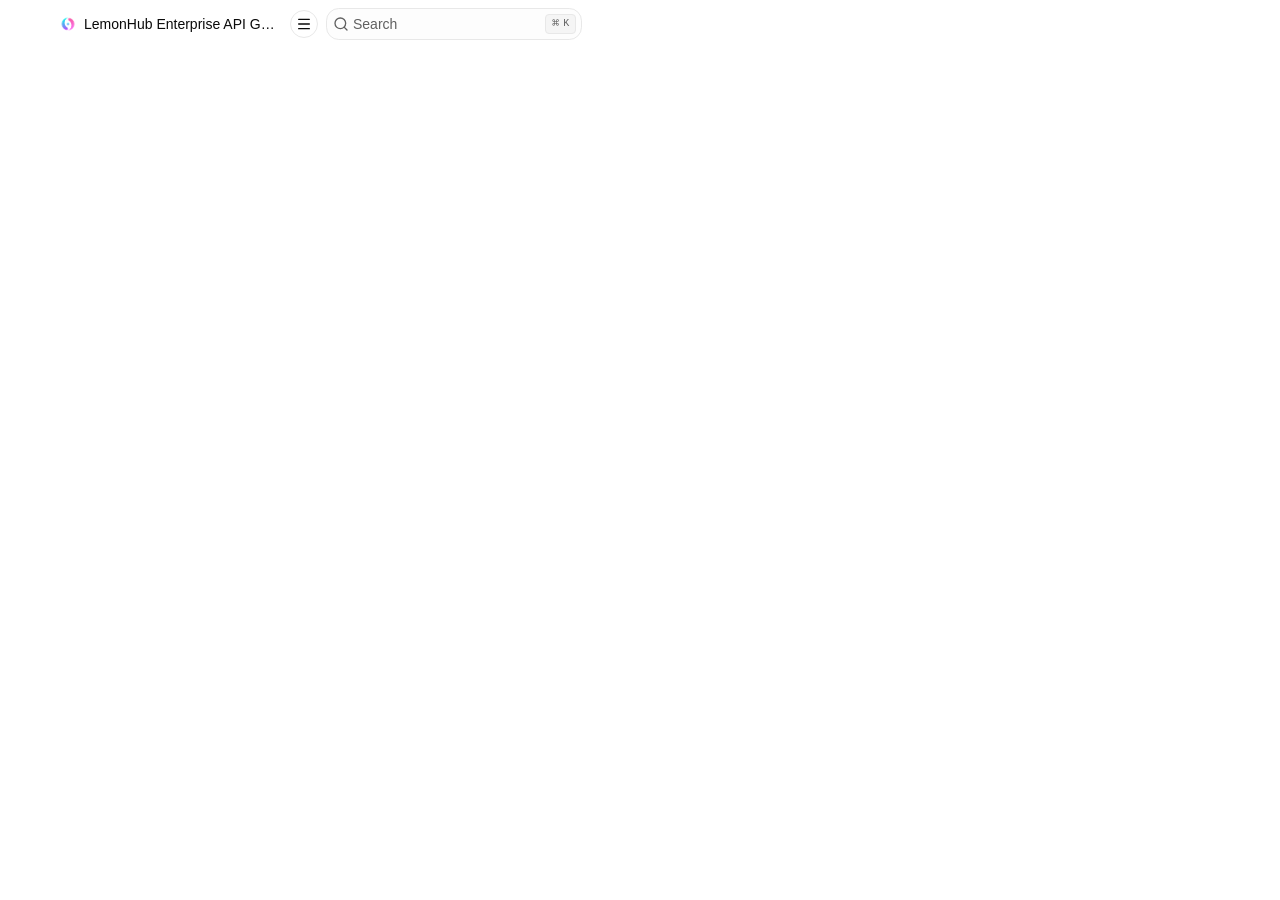
Test case: mobile search keeps an accessible name while the text and keyboard hint wait for wider screens
Expected: the header is shown, [12,8,582,40]
Click the button "Search ⌘ K" at (454, 24), box [326,8,582,40]
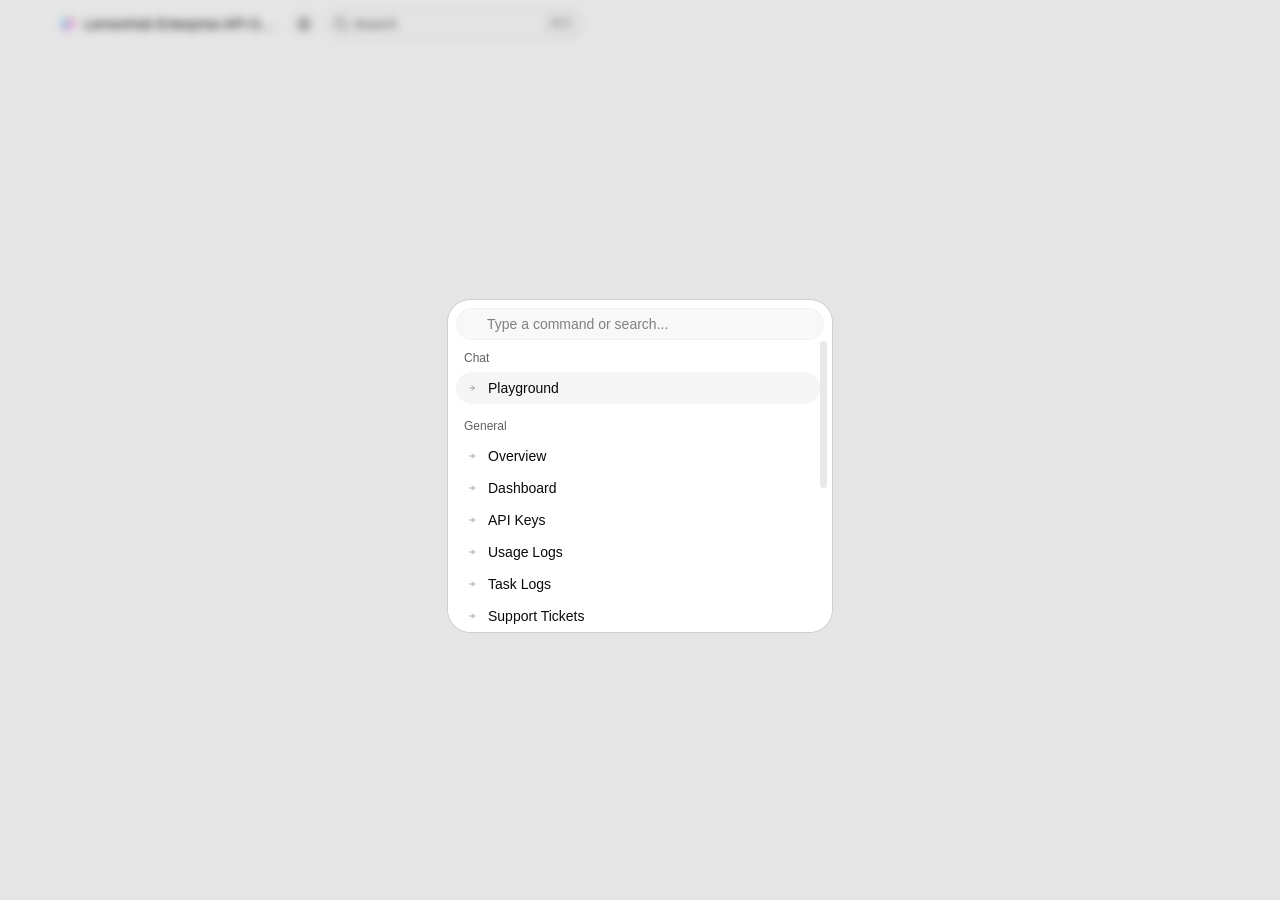
Now the dropdown with placeholder "Type a command or search..." is shown, box [481,314,823,334]
